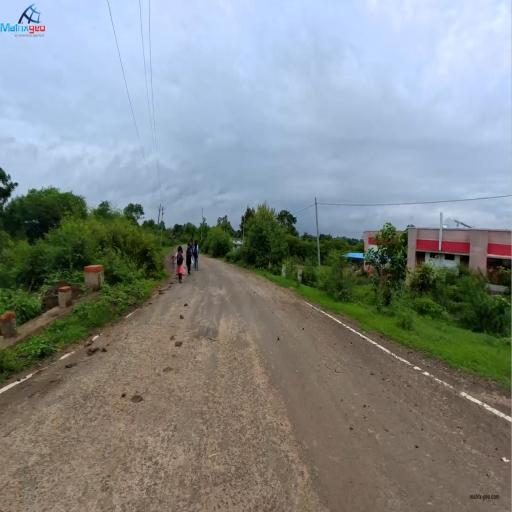ravelling: (132, 337, 305, 485)
